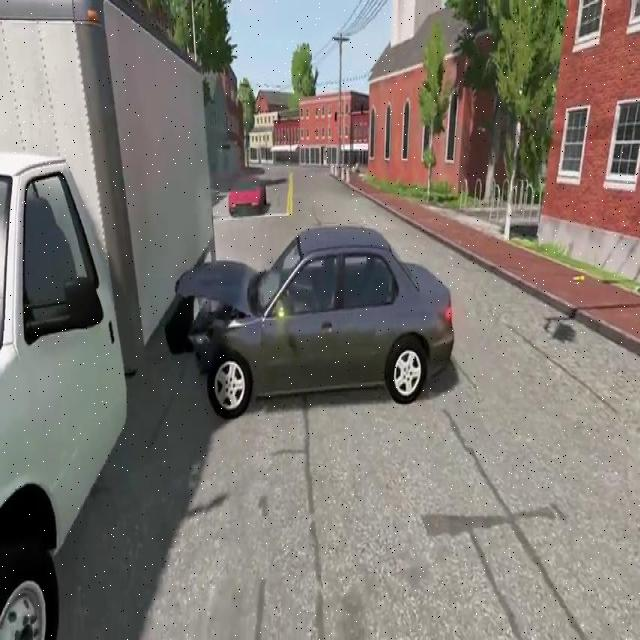moderate: (0, 0, 462, 627)
